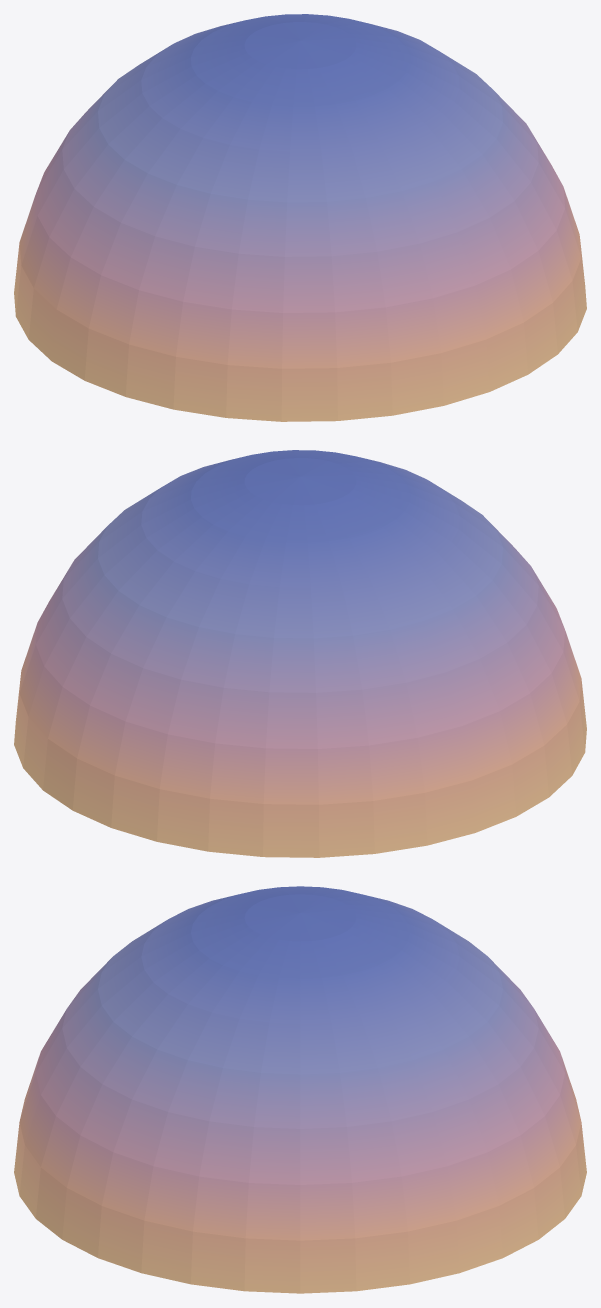
The model's file is mj_interior.glb.
The picture shows the model from 3 angles, top to bottom: view 1: azimuth 30°, elevation 25°; view 2: azimuth 150°, elevation 25°; view 3: azimuth 270°, elevation 25°; orthographic projection.
Parts seen in each view (by area): view 1: Sky; view 2: Sky; view 3: Sky.
Boxes of the visible parts, left/top/right/bottom form: Sky: left=14, top=14, right=586, bottom=421; Sky: left=14, top=450, right=586, bottom=857; Sky: left=14, top=886, right=586, bottom=1293.
Size of the model in its own units: 18.02 by 10.98 by 18.02.
